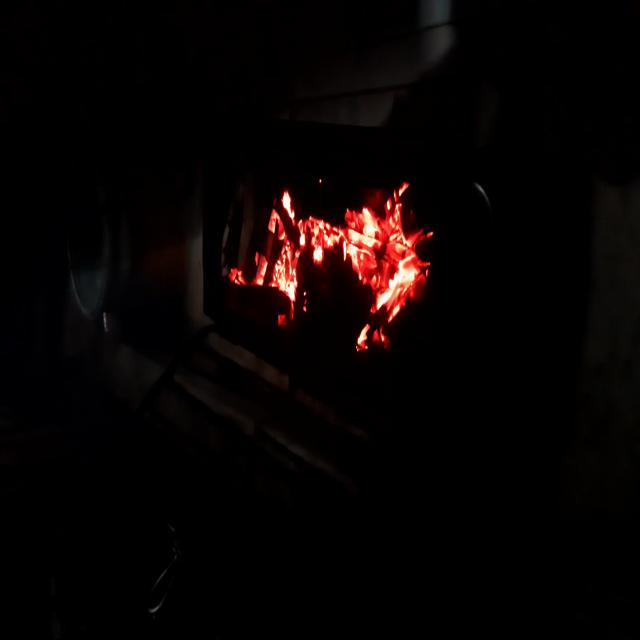Fire: (256, 186, 422, 340)
